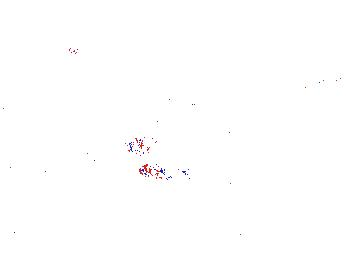X-ray fish: (124, 130, 179, 156), (84, 217, 124, 240)
glassfish: (154, 84, 242, 149), (67, 81, 166, 137)
red belly glassfish: (137, 163, 188, 181), (306, 72, 346, 92), (66, 43, 89, 62)
